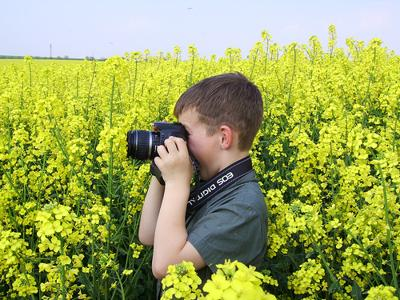person: (138, 73, 269, 300)
